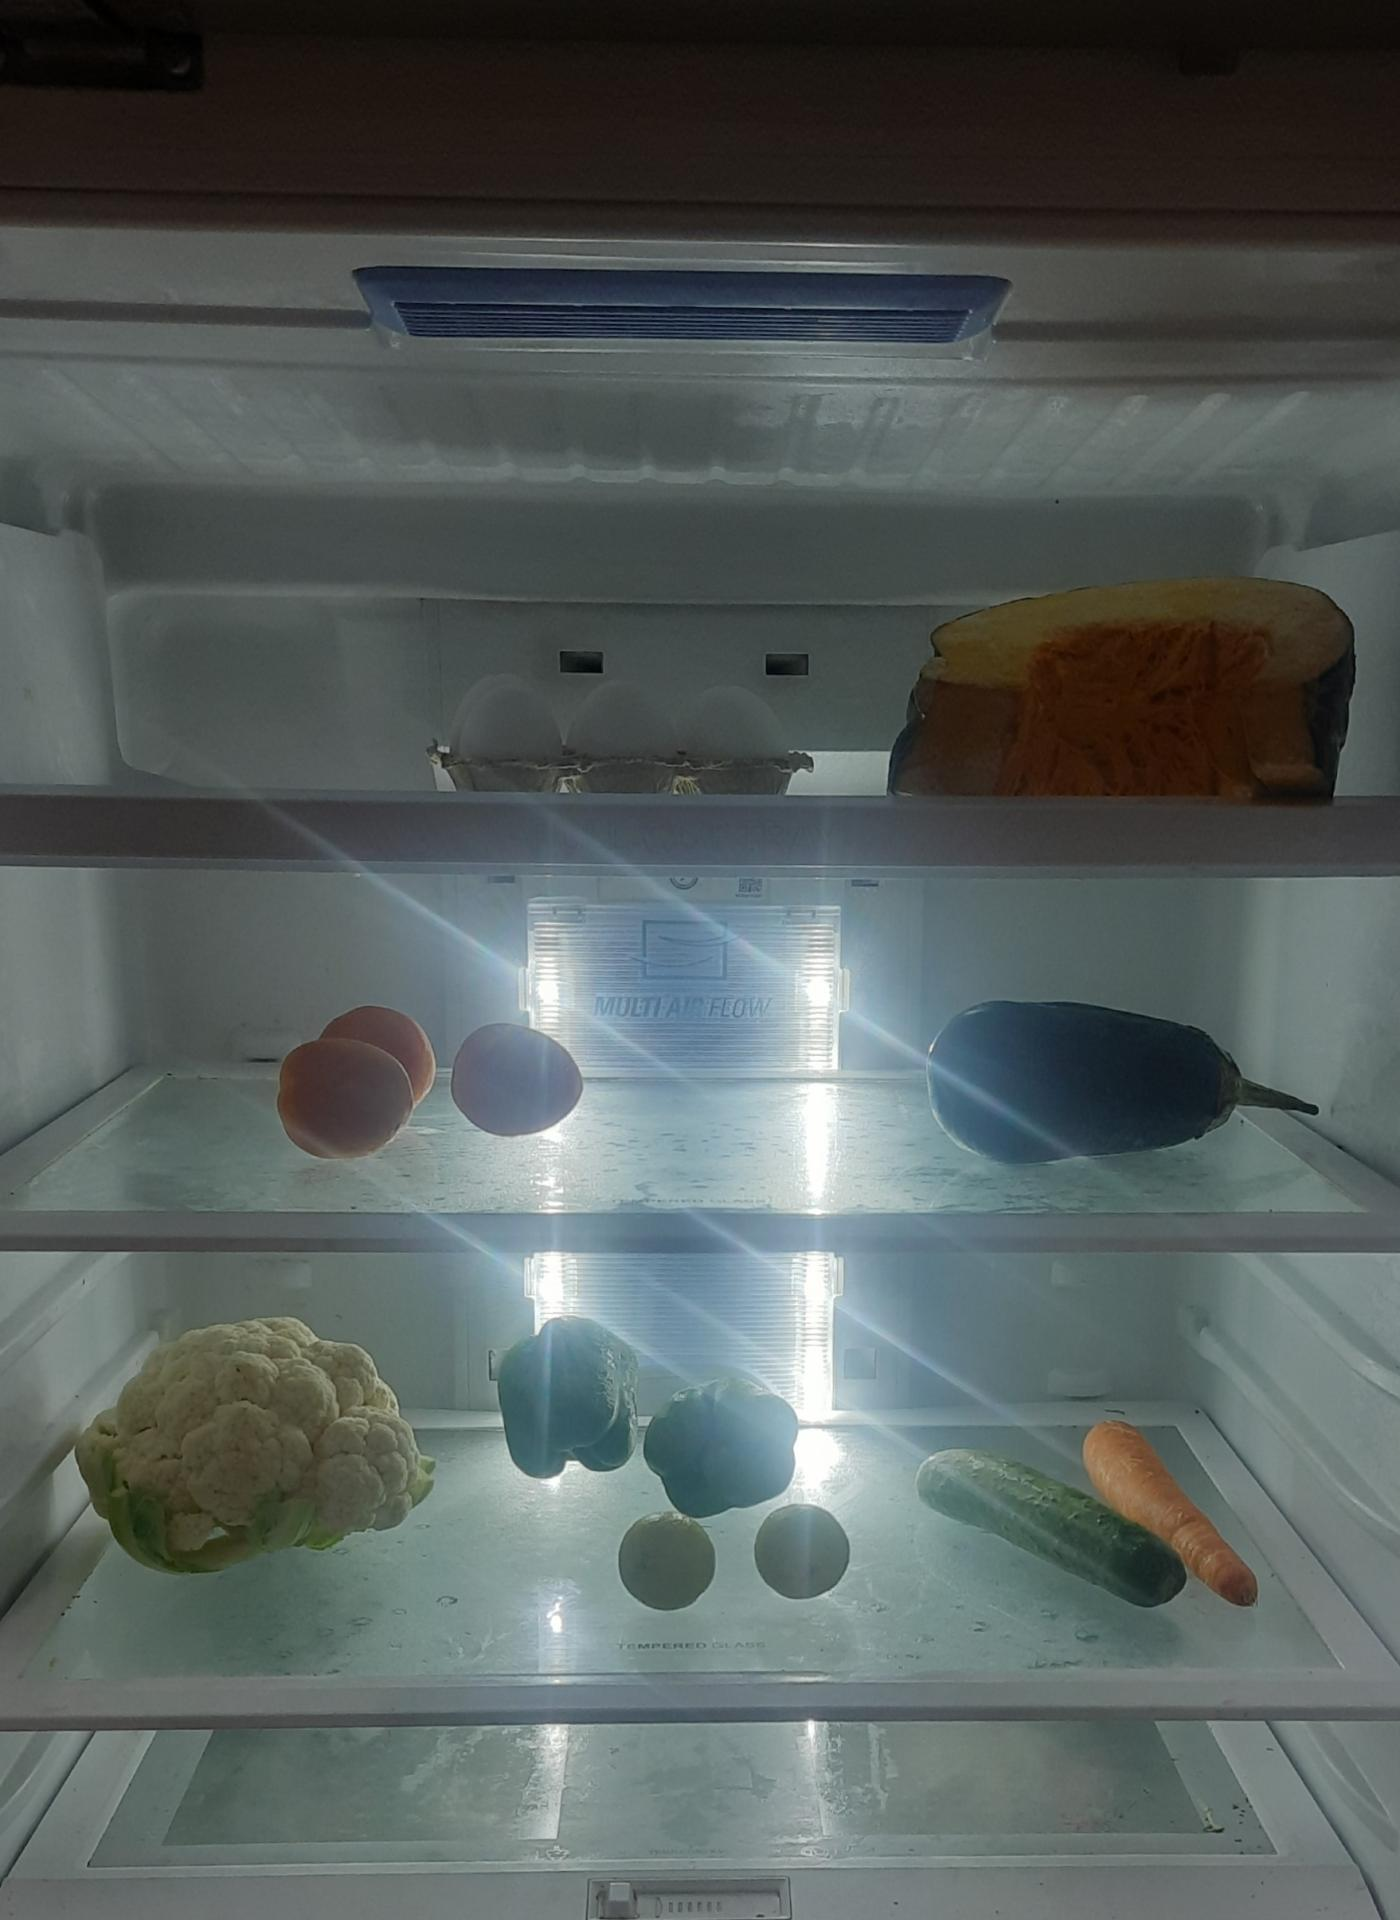brinjal: (915, 979, 1324, 1175)
capsicum: (499, 1312, 643, 1473), (638, 1382, 802, 1519)
carrots: (1071, 1404, 1275, 1620)
cauliflower: (72, 1319, 429, 1576)
cucumber: (901, 1434, 1172, 1601)
egg: (438, 657, 810, 781)
lemon: (617, 1512, 720, 1616), (750, 1501, 850, 1604)
pumpkin: (881, 563, 1372, 800)
tomato: (274, 1005, 438, 1160), (446, 1021, 589, 1143)
